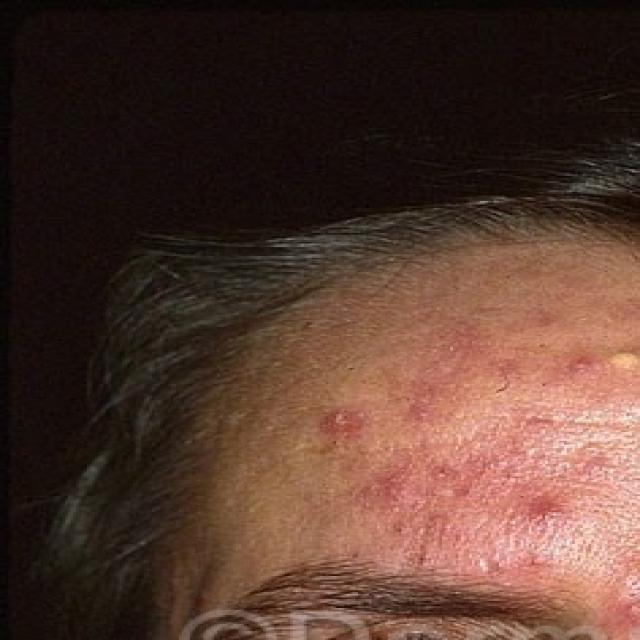Rosacea: (320, 388, 570, 558)
